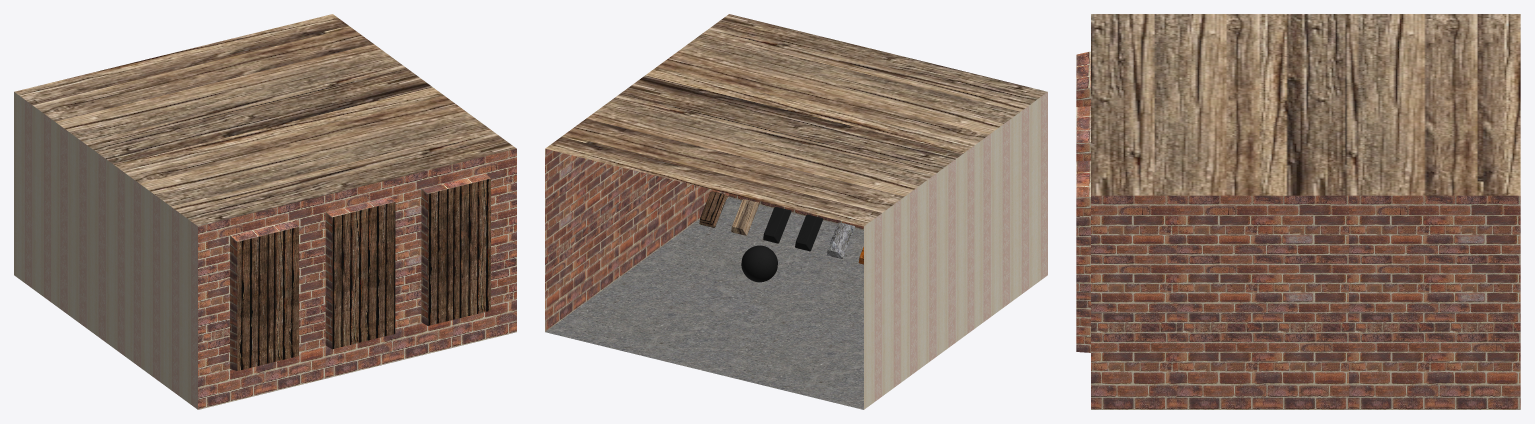
Rendered from pblScene_03_binary.fbx.
The picture shows the model from 3 angles, left to right: view 1: azimuth 30°, elevation 25°; view 2: azimuth 150°, elevation 25°; view 3: azimuth 270°, elevation 25°; orthographic projection. The views are drawn at different scales.
Parts seen in each view (by area): view 1: polySurface6; view 2: polySurface6; view 3: polySurface6.
Boxes of the visible parts, bbox=[...] form: polySurface6: bbox=[14, 14, 516, 409]; polySurface6: bbox=[545, 14, 1047, 409]; polySurface6: bbox=[1076, 14, 1520, 409].
Size of the model in its own units: 20 by 11 by 20.68.
